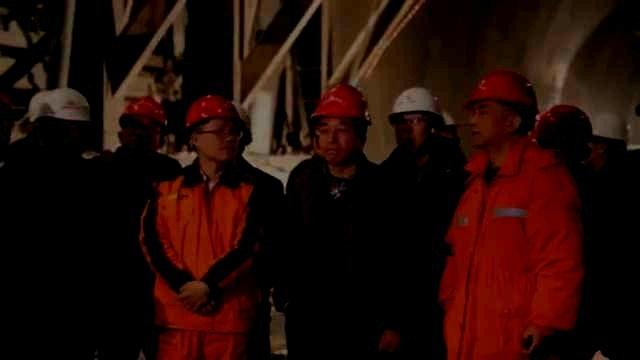helmet: (461, 66, 541, 148), (310, 82, 374, 162), (31, 87, 93, 159), (386, 87, 447, 151), (185, 94, 243, 160), (117, 94, 168, 157), (533, 103, 594, 155), (591, 111, 630, 168), (229, 100, 253, 158)
